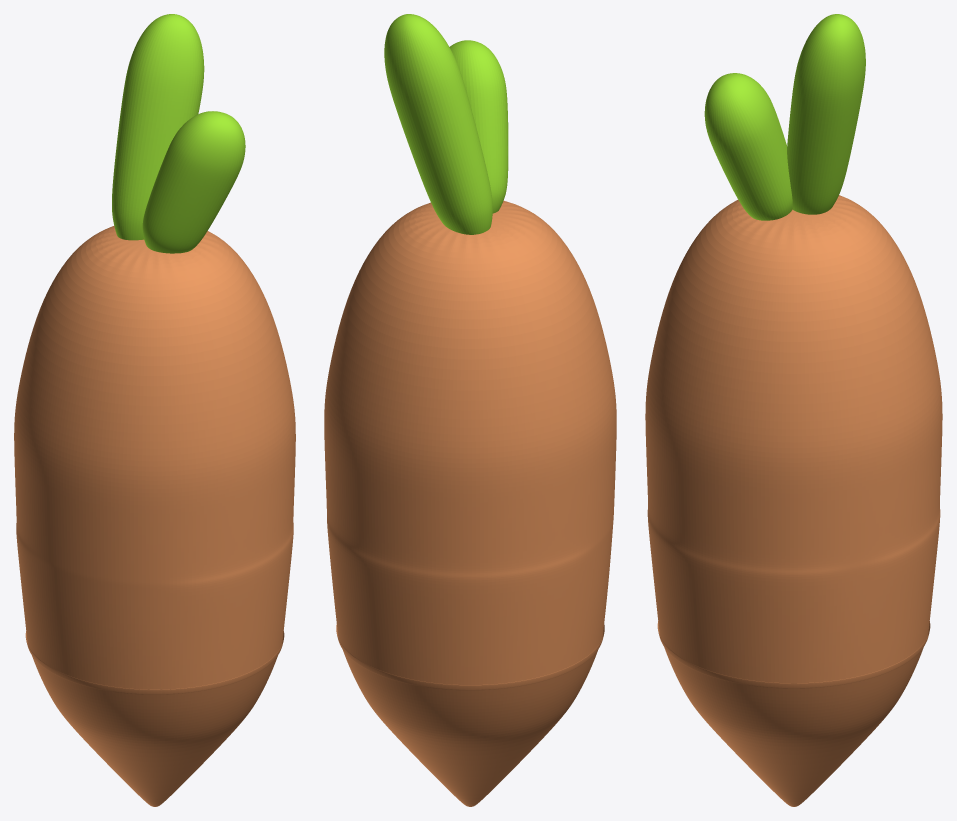
File: carrot.fbx
3 renders of one model, left to right at view 1: azimuth 30°, elevation 25°; view 2: azimuth 150°, elevation 25°; view 3: azimuth 270°, elevation 25°, orthographic. The views are drawn at different scales.
Visible parts, largest first — view 1: Cylinder, Cube, Cube.001; view 2: Cylinder, Cube, Cube.001; view 3: Cylinder, Cube, Cube.001.
Boxes of the visible parts, bbox=[...] form: Cylinder: bbox=[14, 226, 295, 806]; Cube: bbox=[112, 14, 204, 240]; Cube.001: bbox=[142, 111, 245, 253]; Cylinder: bbox=[324, 201, 616, 806]; Cube: bbox=[384, 14, 492, 234]; Cube.001: bbox=[449, 40, 508, 213]; Cylinder: bbox=[645, 195, 942, 806]; Cube: bbox=[787, 14, 865, 214]; Cube.001: bbox=[704, 73, 792, 220].
Bounding box in the file's own units: 215 × 645 × 215.
